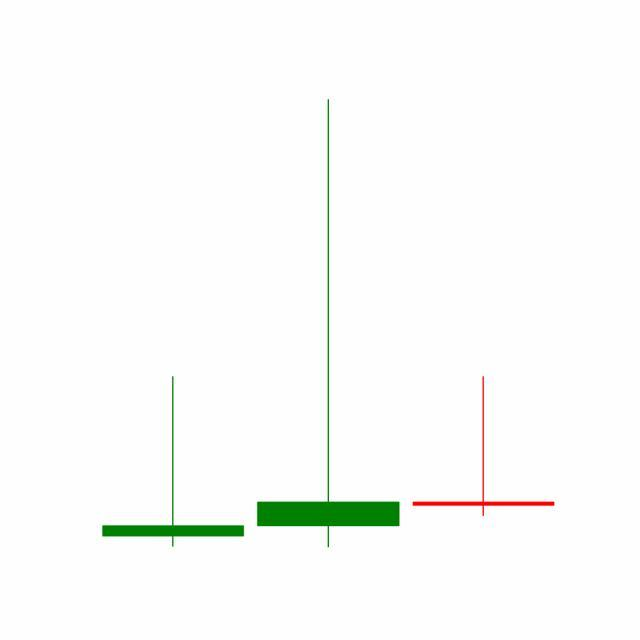Gravestone Doji: (406, 375, 562, 519)
